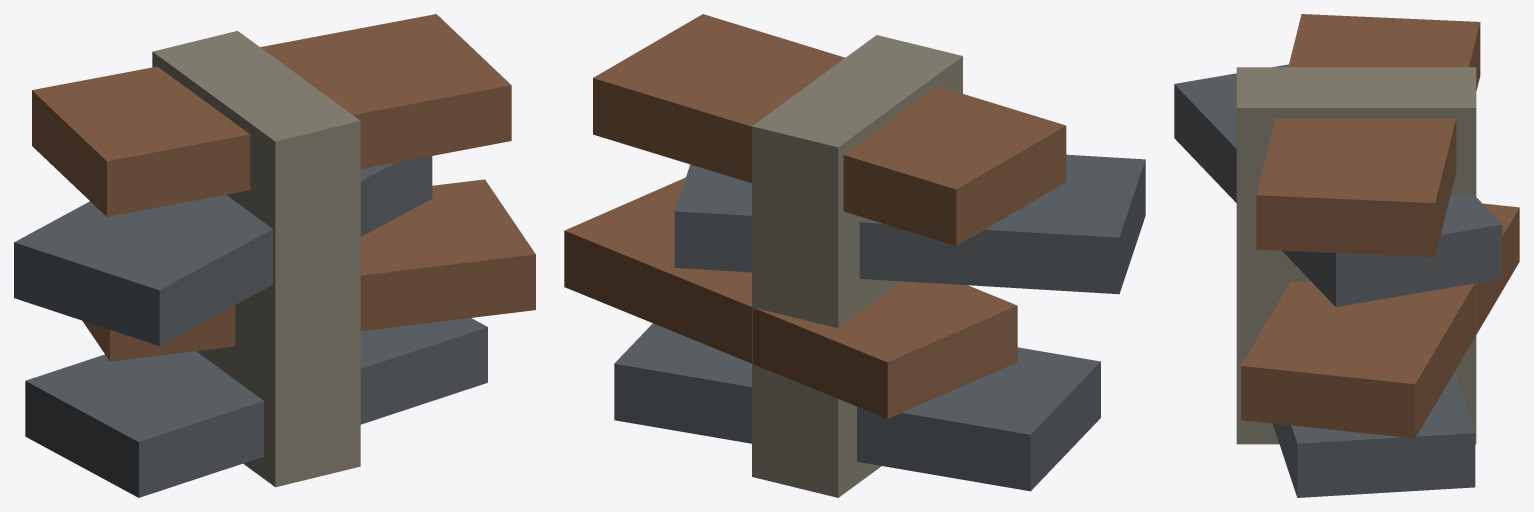
The model's file is item_good_salvage.glb.
The picture shows the model from 3 angles, left to right: view 1: azimuth 30°, elevation 25°; view 2: azimuth 150°, elevation 25°; view 3: azimuth 270°, elevation 25°; orthographic projection. The views are drawn at different scales.
Parts seen in each view (by area): view 1: strap, plate3, plate0, plate2, plate1; view 2: plate3, strap, plate1, plate0, plate2; view 3: plate3, plate1, strap, plate2, plate0.
Part boxes in pixels (<box>): strap: <box>152,31,360,487</box>; plate3: <box>32,14,511,216</box>; plate0: <box>25,318,487,497</box>; plate2: <box>14,156,432,345</box>; plate1: <box>82,179,535,361</box>; plate3: <box>593,14,1066,245</box>; strap: <box>752,35,962,497</box>; plate1: <box>564,177,1017,418</box>; plate0: <box>614,323,1100,491</box>; plate2: <box>674,154,1145,294</box>; plate3: <box>1256,14,1480,257</box>; plate1: <box>1241,203,1519,438</box>; strap: <box>1236,67,1476,444</box>; plate2: <box>1174,64,1502,306</box>; plate0: <box>1273,372,1475,497</box>.
Bounding box in the file's own units: 0.9556 × 0.62 × 0.5766.
